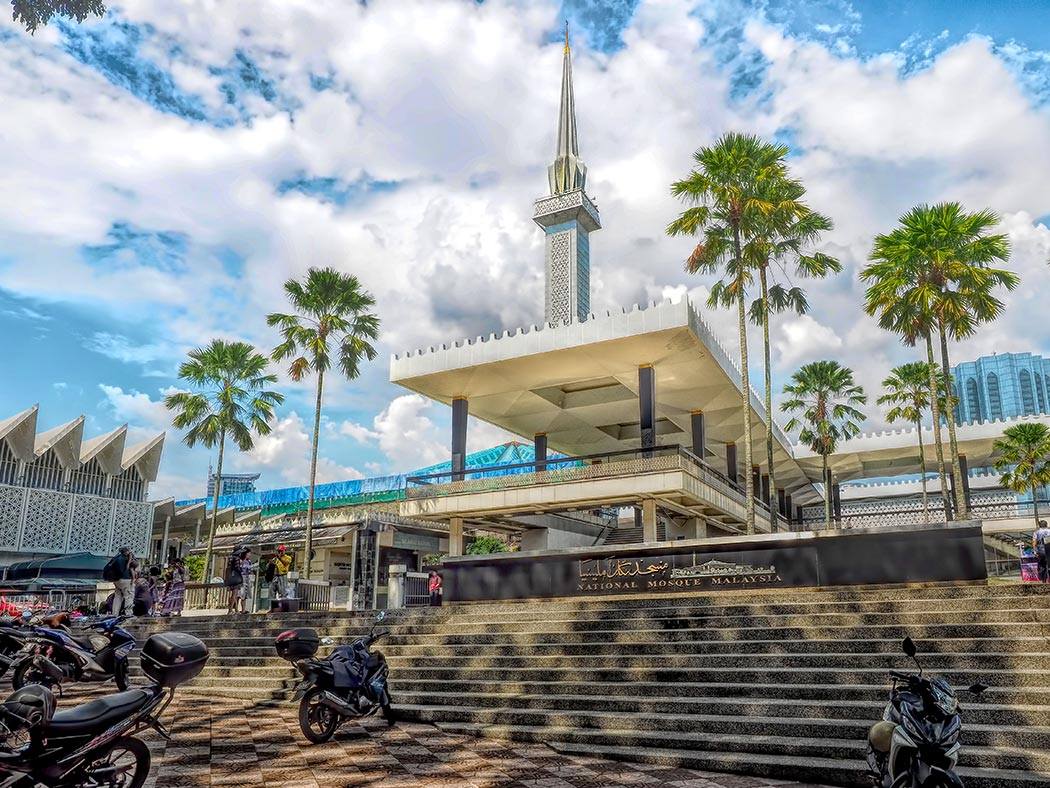Mosque: (374, 19, 783, 589)
